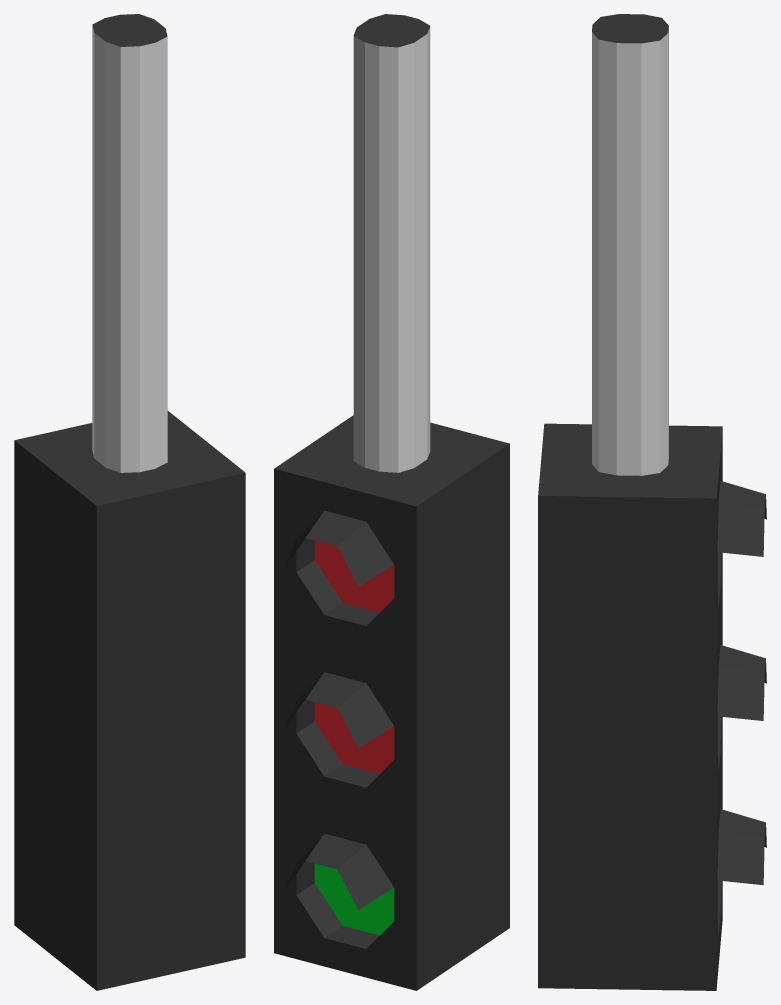
The model's file is start_lights.glb.
The picture shows the model from 3 angles, left to right: view 1: azimuth 30°, elevation 25°; view 2: azimuth 150°, elevation 25°; view 3: azimuth 270°, elevation 25°; orthographic projection.
Parts seen in each view (by area): view 1: Start; view 2: Start, StartLightsMiddle, StartLightsBottom, StartLightsTop; view 3: Start.
Part boxes in pixels (x1=…): Start: x1=14, y1=14, x2=245, y2=990; Start: x1=274, y1=14, x2=509, y2=990; StartLightsMiddle: x1=314, y1=702, x2=394, y2=773; StartLightsBottom: x1=314, y1=863, x2=394, y2=935; StartLightsTop: x1=314, y1=540, x2=394, y2=612; Start: x1=538, y1=14, x2=766, y2=990.
Size of the model in its own units: 0.0202 by 0.116 by 0.026.
